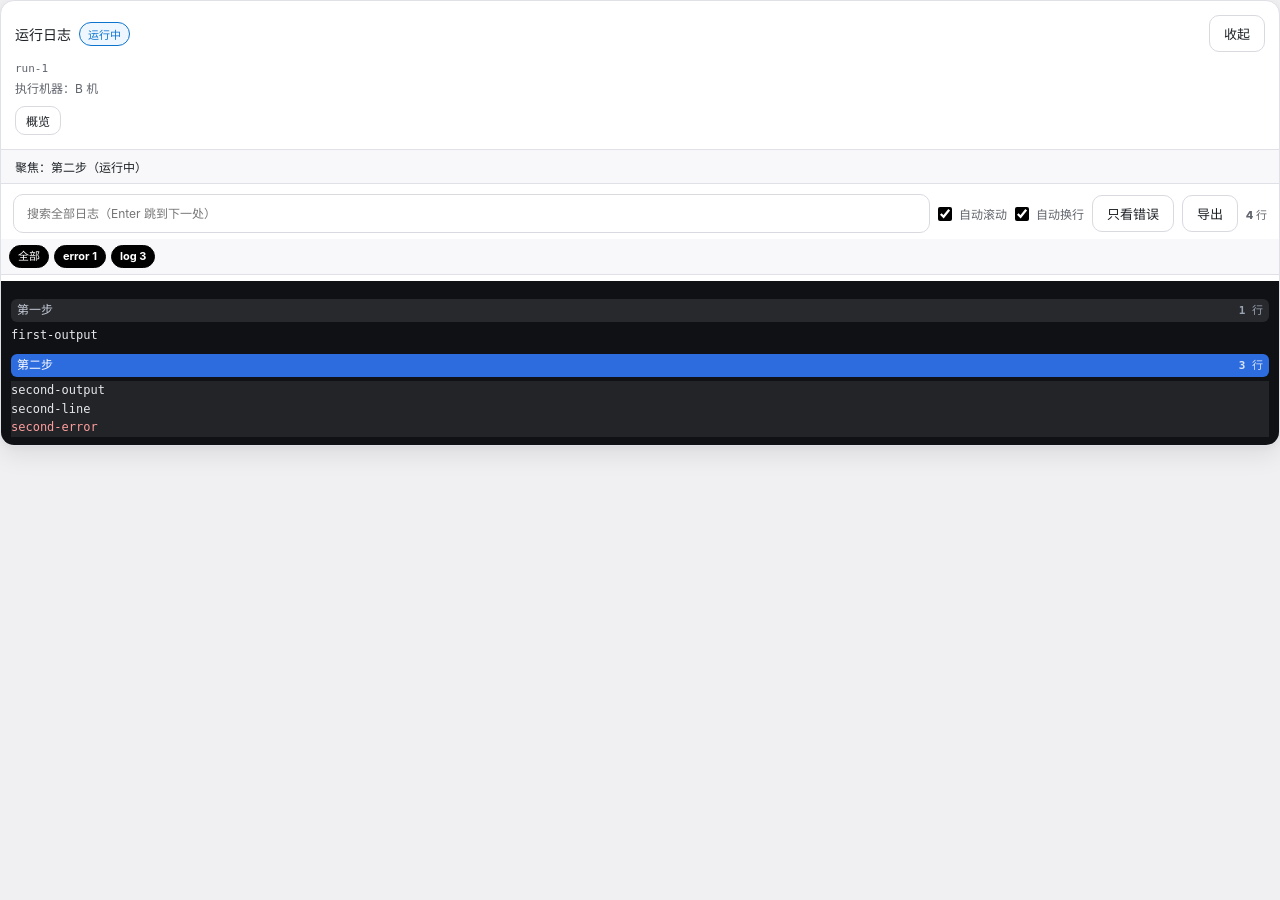
Test: RunLogPanel 顶部折叠区 › 概览默认收起，打开后给该节点的结论、参数与重试
Click the button "概览". click: (38,120)
box: 15,106 -> 61,135
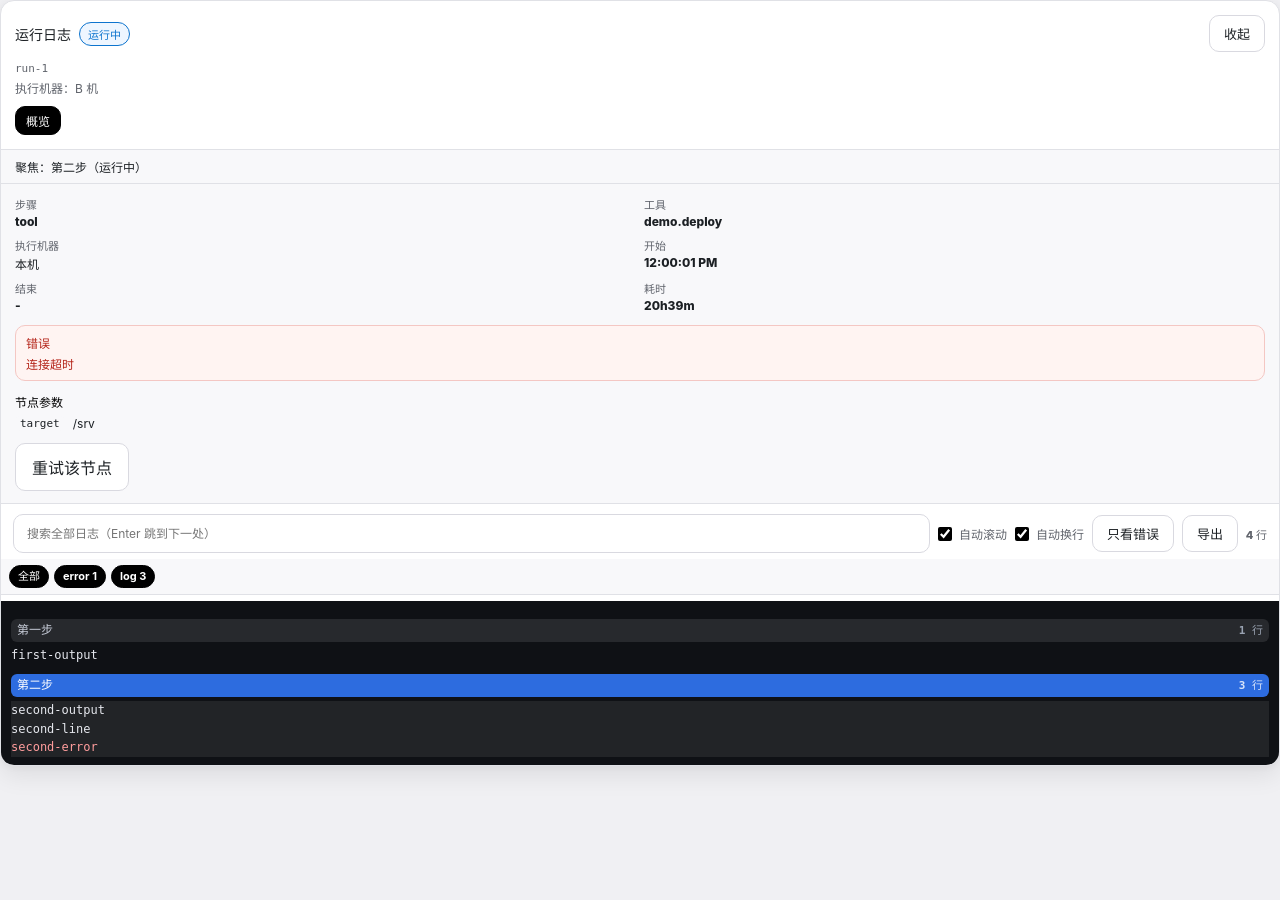
expect the element with class "nodeRunOverview" shows "demo.deploy": met, box 644,214 -> 722,229
expect the element with class "nodeRunOverview" shows "连接超时": met, box 26,357 -> 74,372
expect the element with class "nodeRunOverview" shows "target": met, box 20,417 -> 60,430
